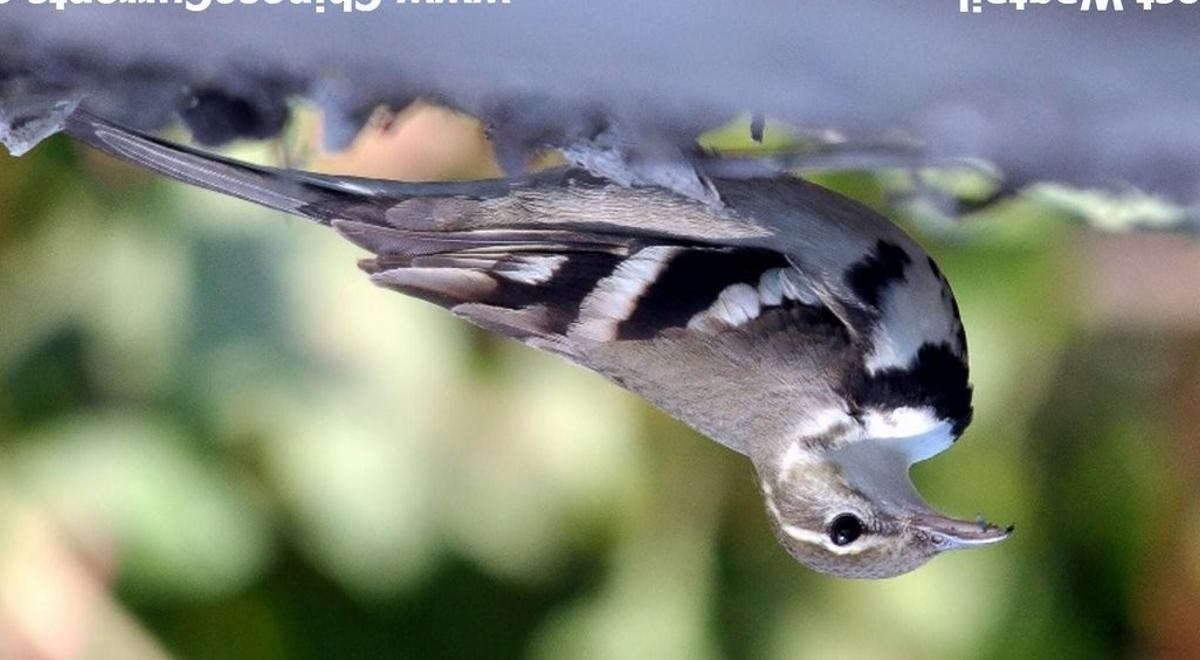wagtail: (203, 113, 995, 576)
